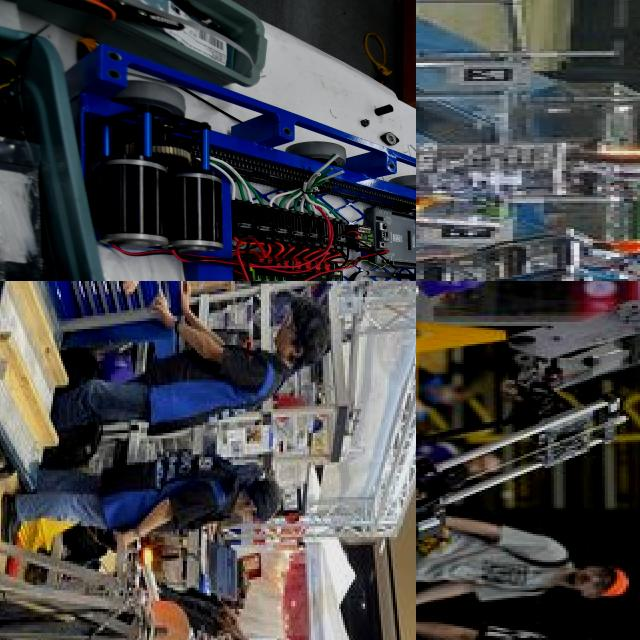FRC-Robots: (54, 43, 416, 281), (0, 281, 171, 640), (416, 385, 640, 640), (416, 81, 640, 227), (416, 182, 640, 281)
